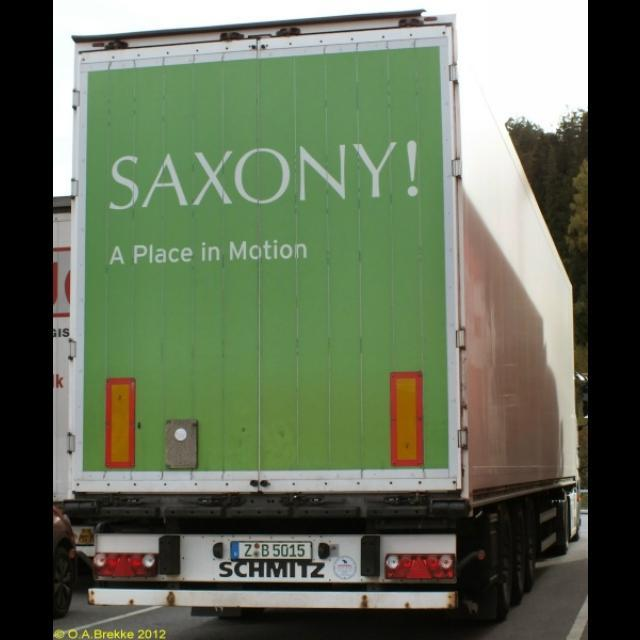license-plates: (231, 542, 313, 562)
